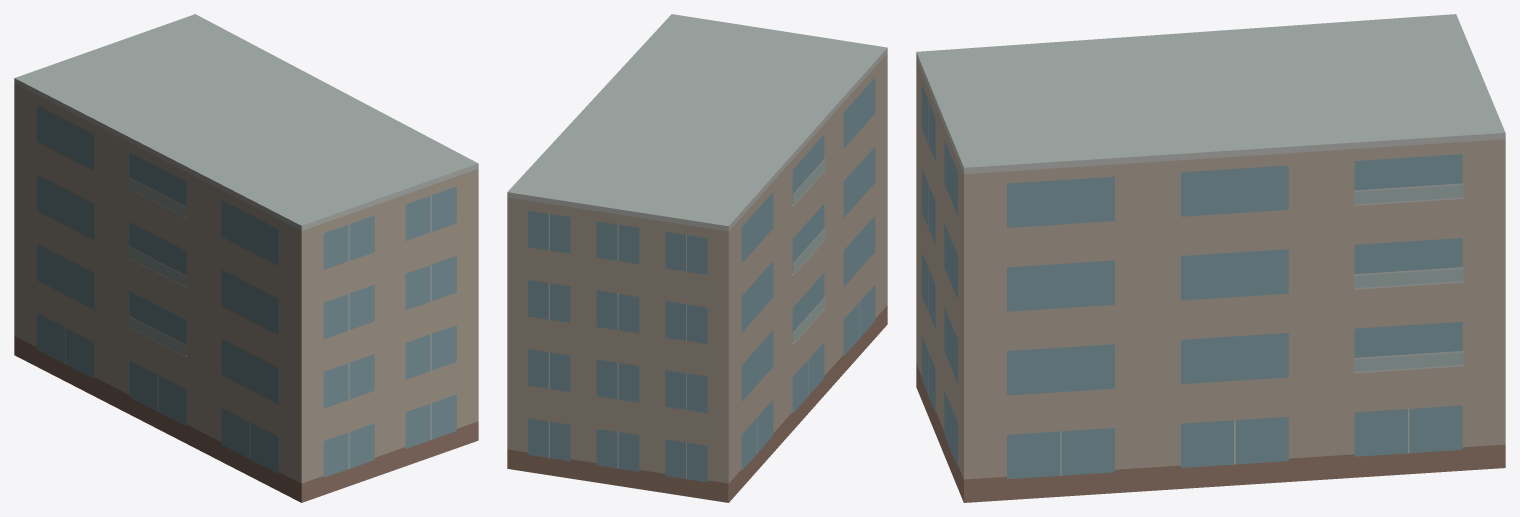
Rendered from survey-upis-33033855.glb.
3 renders of one model, left to right at view 1: azimuth 30°, elevation 25°; view 2: azimuth 150°, elevation 25°; view 3: azimuth 270°, elevation 25°, orthographic. The views are drawn at different scales.
Parts seen in each view (by area): view 1: survey-upis-33033855.tmp; view 2: survey-upis-33033855.tmp; view 3: survey-upis-33033855.tmp.
Boxes of the visible parts, left/top/right/bottom form: survey-upis-33033855.tmp: left=14, top=14, right=478, bottom=502; survey-upis-33033855.tmp: left=507, top=14, right=887, bottom=502; survey-upis-33033855.tmp: left=916, top=14, right=1505, bottom=502.
Size of the model in its own units: 12.61 by 12.8 by 20.41.
